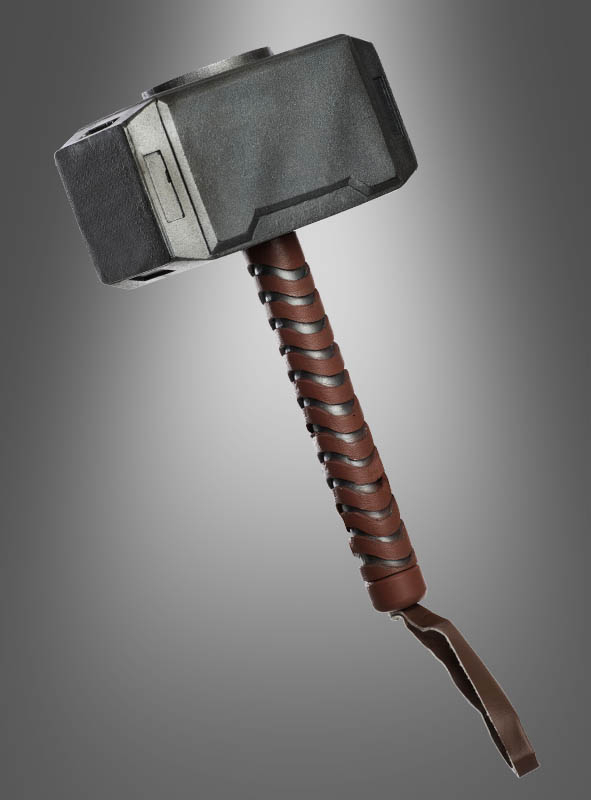THOR Hammer: (39, 32, 430, 616)
